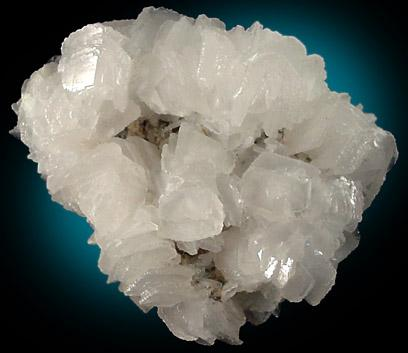calcite: (14, 8, 398, 345)
